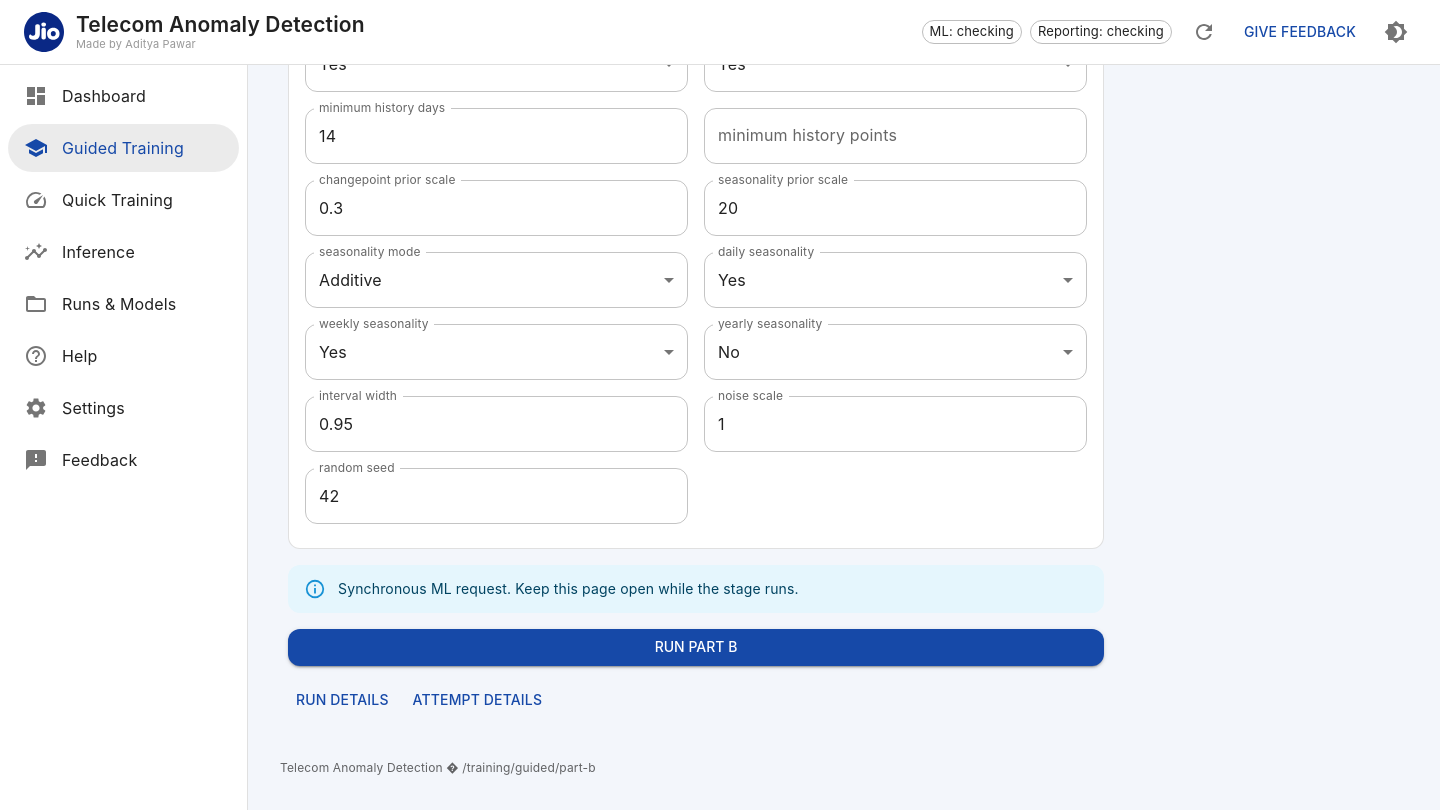
Test: Part B workspace › shows network errors
(page scrolled)
Click the button "Run Part B": (696, 647) [288,629,1104,666]
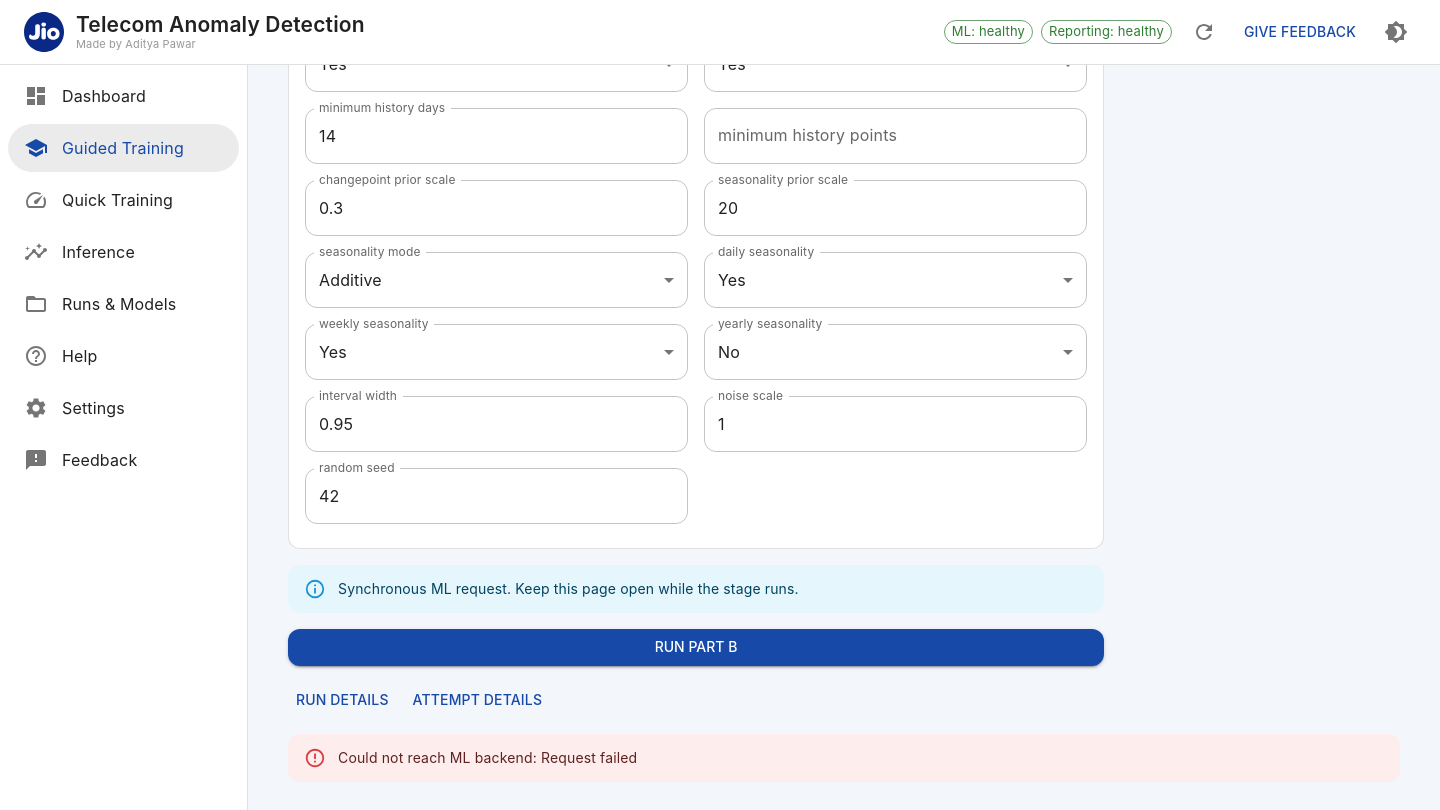
Now the text "Could not reach ML backend: Request failed" is shown, box [338,749,637,766]
